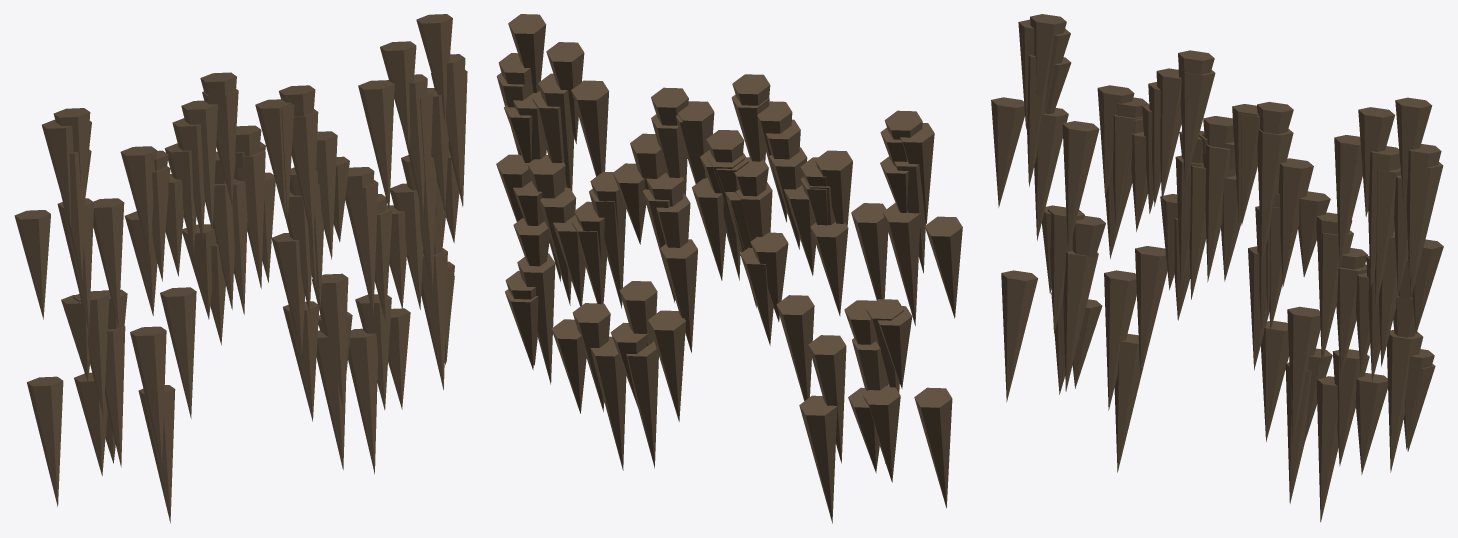
File: soul_patch.glb
3 renders of one model, left to right at view 1: azimuth 30°, elevation 25°; view 2: azimuth 150°, elevation 25°; view 3: azimuth 330°, elevation 25°, orthographic. The views are drawn at different scales.
Parts seen in each view (by area): view 1: p5, p38, p21, p62, p12, p44, p43, p78, p36, p68, p57, p22 (+51 smaller); view 2: p54, p12, p5, p21, p38, p56, p62, p16, p44, p3, p48, p68 (+60 smaller); view 3: p5, p12, p44, p49, p21, p43, p62, p78, p30, p36, p38, p54 (+57 smaller).
Boxes of the visible parts, left/top/right/bottom form: p5: left=130, top=326, right=166, bottom=465; p38: left=348, top=328, right=377, bottom=474; p21: left=160, top=287, right=196, bottom=418; p62: left=358, top=80, right=394, bottom=210; p12: left=27, top=376, right=63, bottom=506; p44: left=93, top=198, right=124, bottom=327; p43: left=312, top=273, right=348, bottom=407; p78: left=421, top=248, right=447, bottom=389; p36: left=291, top=109, right=318, bottom=245; p68: left=14, top=210, right=50, bottom=319; p57: left=348, top=180, right=378, bottom=316; p22: left=237, top=151, right=265, bottom=288; p54: left=799, top=395, right=837, bottom=523; p12: left=914, top=387, right=952, bottom=508; p5: left=808, top=335, right=846, bottom=463; p21: left=776, top=295, right=814, bottom=400; p38: left=590, top=336, right=626, bottom=470; p56: left=882, top=203, right=920, bottom=325; p62: left=571, top=80, right=608, bottom=176; p16: left=648, top=310, right=685, bottom=421; p44: left=851, top=203, right=888, bottom=300; p3: left=626, top=341, right=658, bottom=468; p48: left=660, top=239, right=697, bottom=352; p68: left=925, top=216, right=962, bottom=318; p5: left=1104, top=270, right=1136, bottom=410; p12: left=1001, top=270, right=1037, bottom=402; p44: left=1062, top=121, right=1099, bottom=251; p49: left=1063, top=251, right=1098, bottom=391; p21: left=1135, top=246, right=1167, bottom=378; p43: left=1287, top=306, right=1320, bottom=442; p62: left=1334, top=135, right=1362, bottom=266; p78: left=1386, top=330, right=1423, bottom=472; p30: left=1278, top=158, right=1313, bottom=287; p36: left=1257, top=128, right=1293, bottom=263; p38: left=1316, top=376, right=1338, bottom=522; p54: left=1114, top=334, right=1140, bottom=472.
Size of the model in its own units: 0.0382 by 0.0352 by 0.00398.
